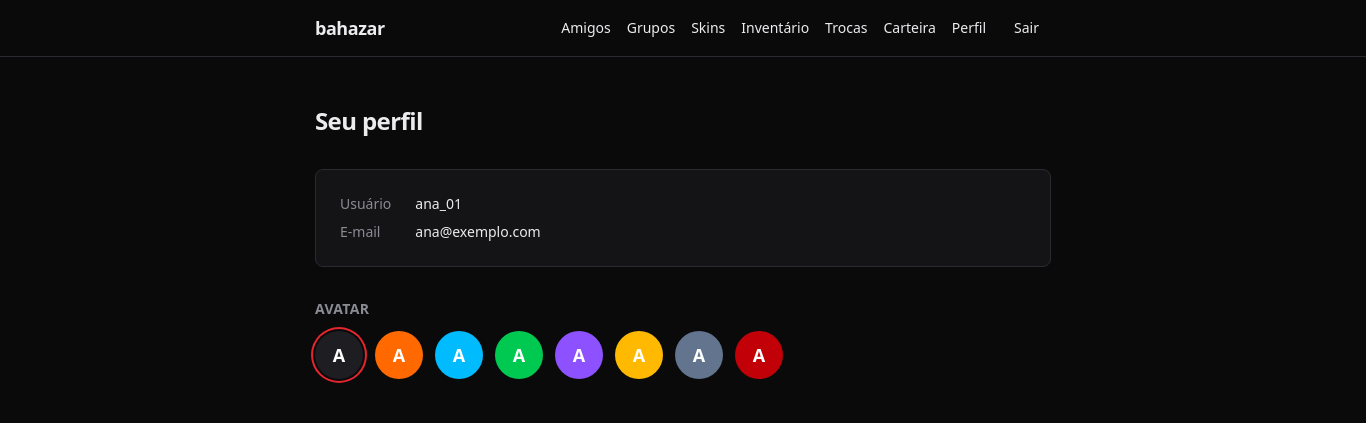
Test case: ProfilePage › depois de sair, o perfil do usuário anterior não sobra em cache
Check: the text "ana@exemplo.com" is shown, box [415, 222, 541, 241]
What coordinates should you click on to do the following:
click the button "Sair"
I would click on:
 (1027, 28)
Its box is [1002, 12, 1051, 44].
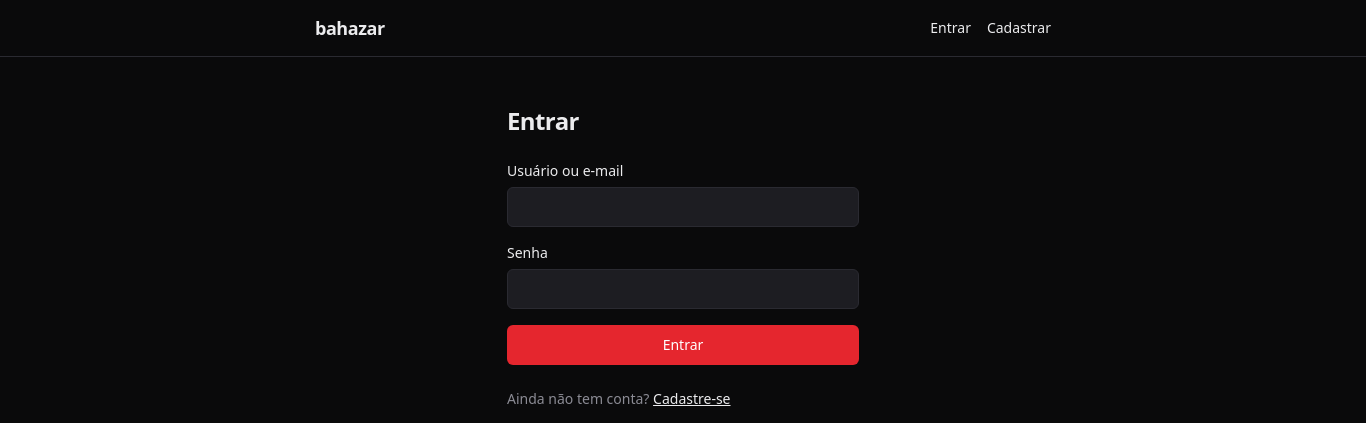
Check: the heading "Entrar" is shown, box [507, 104, 579, 137]
Check: the text "ana@exemplo.com" is gone
